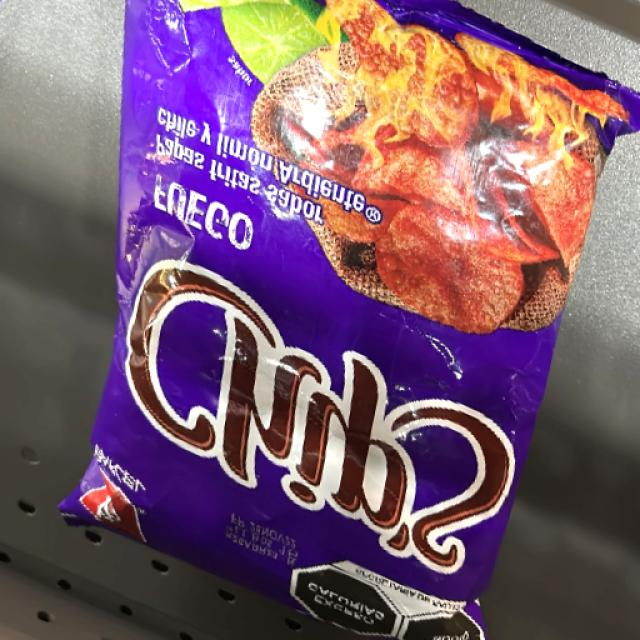chipsFuego: (147, 11, 550, 578)
